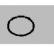no answer: (2, 13, 42, 38)
